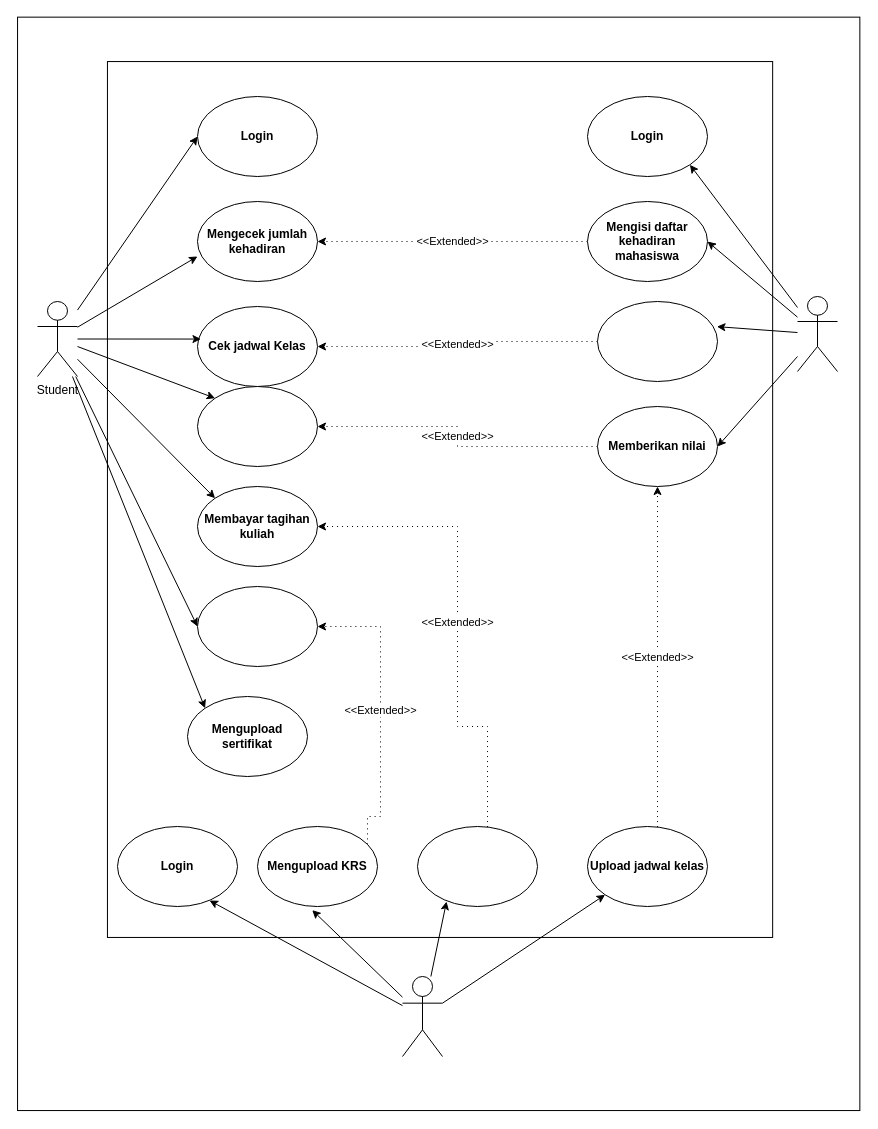
This 878x1129 diagram has some shape labels left out. Here are the shapes that lost their labels. From the top down, the centre of each, then its label:
(657,341): Mengupdate jadwal Kelas
(817,334): Professor
(257,426): Mengecek nilai
(257,626): Daftar KRS
(477,866): Mengkonfirmasi transaksi
(422,1016): Operator
